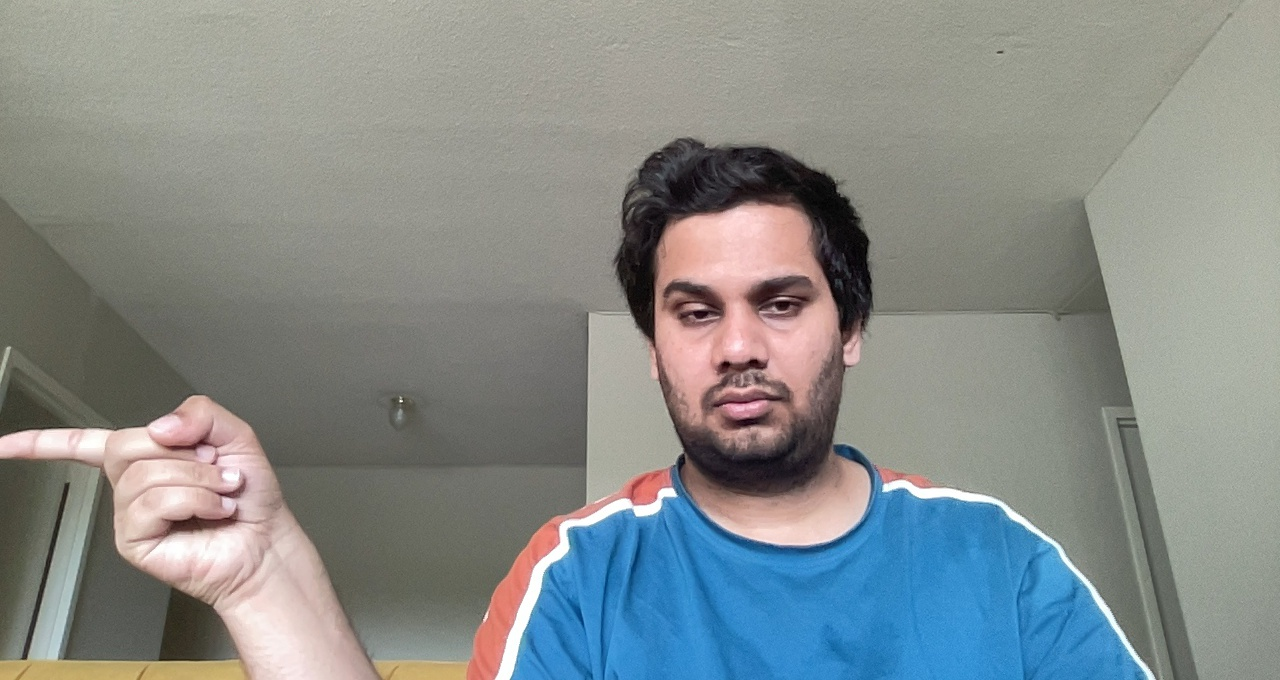fingerright: (0, 391, 298, 609)
